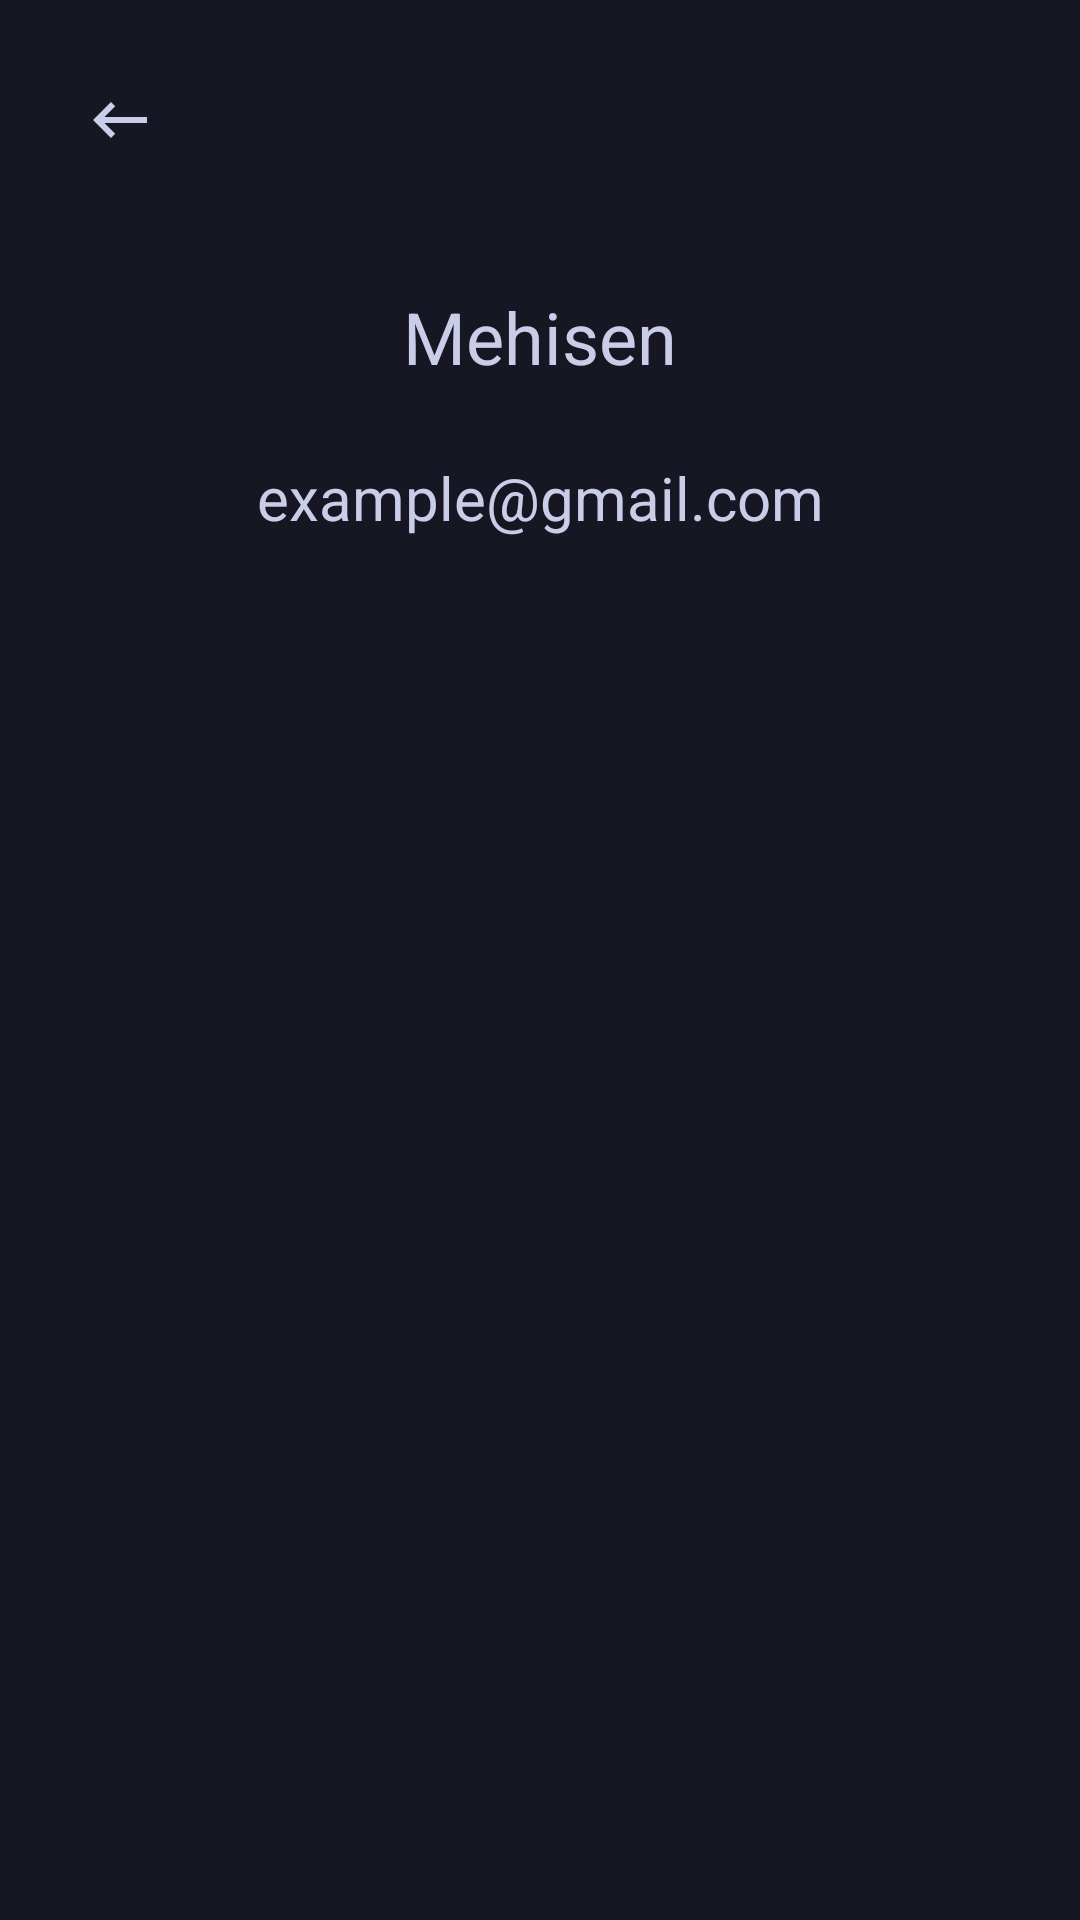

Named icons in this screenshot (1080x1920) and their bounding boxes, (x1, y1, x2, y2):
keyboard backspace: (93, 102, 147, 138)
